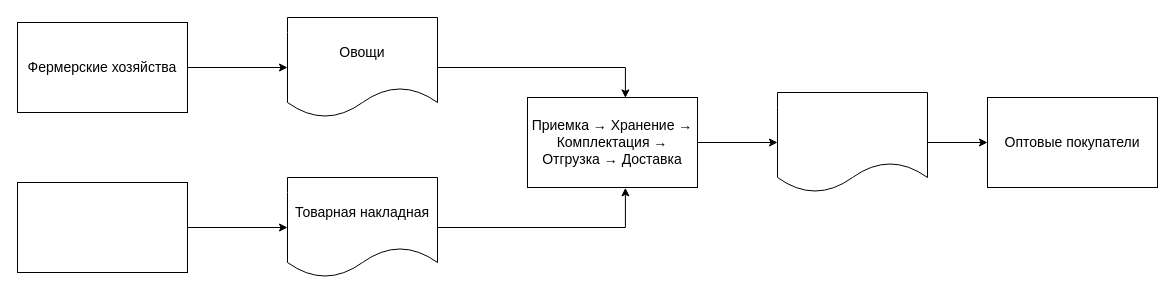
The diagram is 1175 pixels wide and 295 high, and some of its shapes have lost their labels. The centre of each missing label's shape, as x and y in pixels:
Импортеры: (102,227)
Отгруженные овощи + накладная: (852,142)
